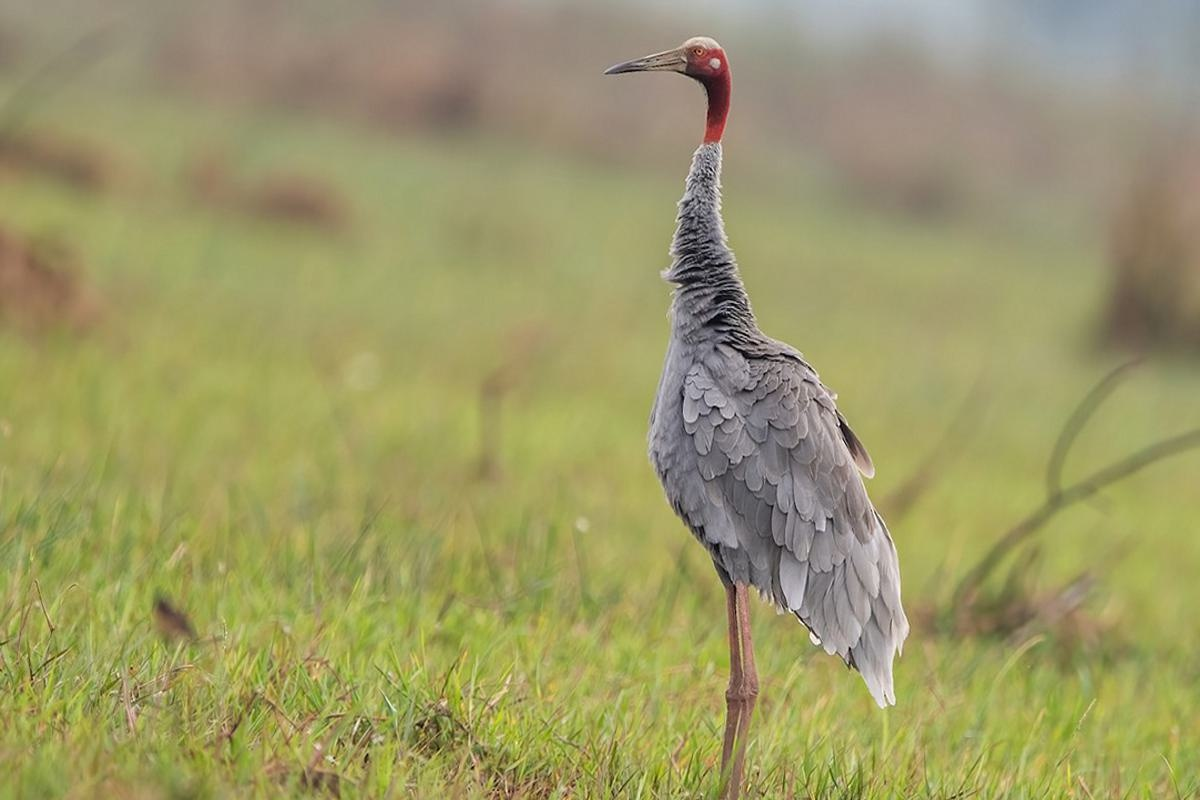crane: (594, 32, 950, 796)
